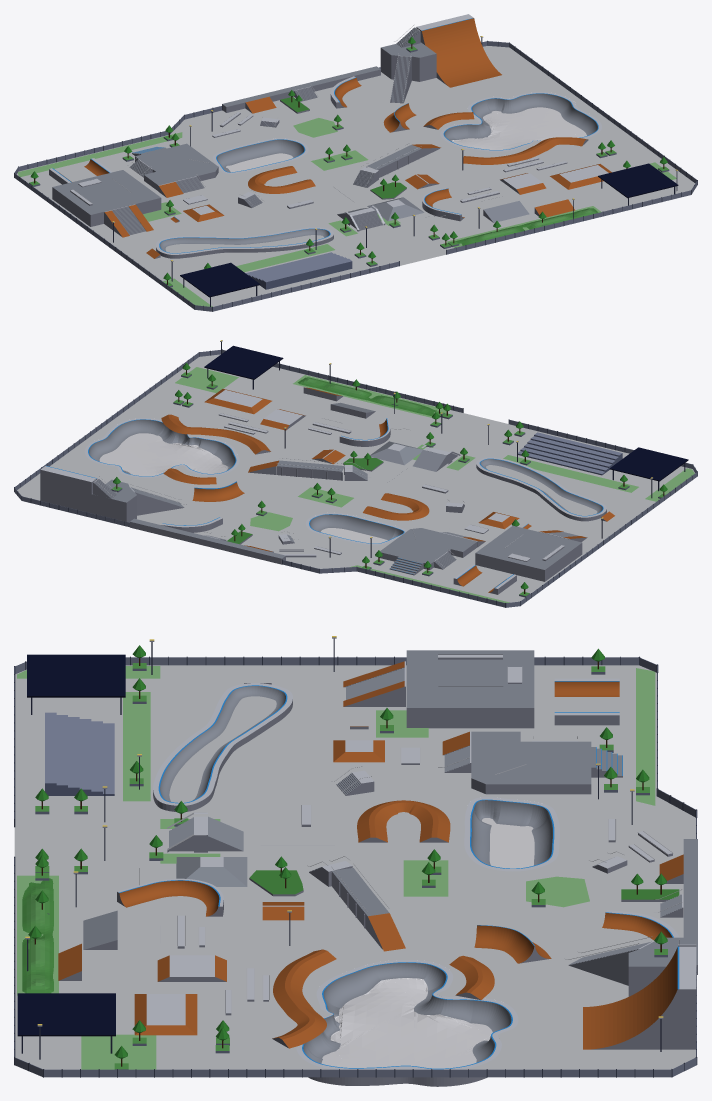
File: mega_skatepark.glb
3 views of the same model, one above another, from view 1: azimuth 30°, elevation 25°; view 2: azimuth 150°, elevation 25°; view 3: azimuth 270°, elevation 25° (orthographic). The views are drawn at different scales.
Parts seen in each view (by area): view 1: deck_park_ground, fn_wall_L_2, fn_wall_MEGA_1, fn_deck_XL_1, fn_wall_S_3, fn_deck_M_1, fn_wall_L_1, fn_bleachers_S_1, fn_shade_S_1, fn_shade_S_2, fn_deck_MEGA_1, fn_fence_S_1 (+25 smaller); view 2: deck_park_ground, fn_wall_L_2, fn_deck_XL_1, fn_bleachers_S_1, fn_deck_M_1, fn_wall_S_3, fn_wall_L_1, fn_wall_MEGA_1, fn_deck_M_2, fn_shade_S_1, fn_shade_S_2, fn_deck_MEGA_1 (+27 smaller); view 3: deck_park_ground, fn_wall_L_2, fn_deck_XL_1, fn_wall_MEGA_1, fn_deck_M_1, fn_wall_L_1, fn_fence_S_3, fn_bleachers_S_1, fn_wall_S_3, fn_shade_S_2, fn_shade_S_1, fn_fence_S_9 (+35 smaller).
Boxes of the visible parts, x1,y1,x2,y2 form: deck_park_ground: [17, 46, 695, 306]; fn_wall_L_2: [440, 92, 601, 151]; fn_wall_MEGA_1: [416, 14, 501, 87]; fn_deck_XL_1: [52, 170, 161, 226]; fn_wall_S_3: [156, 227, 333, 258]; fn_deck_M_1: [135, 143, 218, 190]; fn_wall_L_1: [212, 138, 308, 173]; fn_bleachers_S_1: [246, 252, 352, 289]; fn_shade_S_1: [180, 262, 260, 306]; fn_shade_S_2: [598, 163, 678, 205]; fn_deck_MEGA_1: [380, 42, 436, 81]; fn_fence_S_1: [446, 190, 691, 254]; deck_park_ground: [17, 354, 695, 602]; fn_wall_L_2: [84, 418, 239, 477]; fn_deck_XL_1: [475, 525, 582, 581]; fn_bleachers_S_1: [518, 432, 622, 475]; fn_deck_M_1: [379, 528, 477, 570]; fn_wall_S_3: [476, 457, 606, 521]; fn_wall_L_1: [305, 512, 406, 545]; fn_wall_MEGA_1: [40, 466, 97, 513]; fn_deck_M_2: [130, 518, 285, 564]; fn_shade_S_1: [609, 447, 688, 491]; fn_shade_S_2: [204, 345, 283, 389]; fn_deck_MEGA_1: [91, 479, 136, 522]; deck_park_ground: [14, 665, 695, 1069]; fn_wall_L_2: [296, 960, 518, 1086]; fn_deck_XL_1: [406, 650, 534, 728]; fn_wall_MEGA_1: [583, 946, 696, 1049]; fn_deck_M_1: [471, 731, 591, 794]; fn_wall_L_1: [464, 797, 559, 871]; fn_fence_S_3: [43, 1069, 671, 1077]; fn_bleachers_S_1: [45, 712, 114, 795]; fn_wall_S_3: [153, 683, 292, 811]; fn_shade_S_2: [17, 993, 115, 1053]; fn_shade_S_1: [27, 654, 125, 714]; fn_fence_S_9: [125, 656, 639, 665].
Bounding box in the file's own units: 210 × 19.2 × 147.
